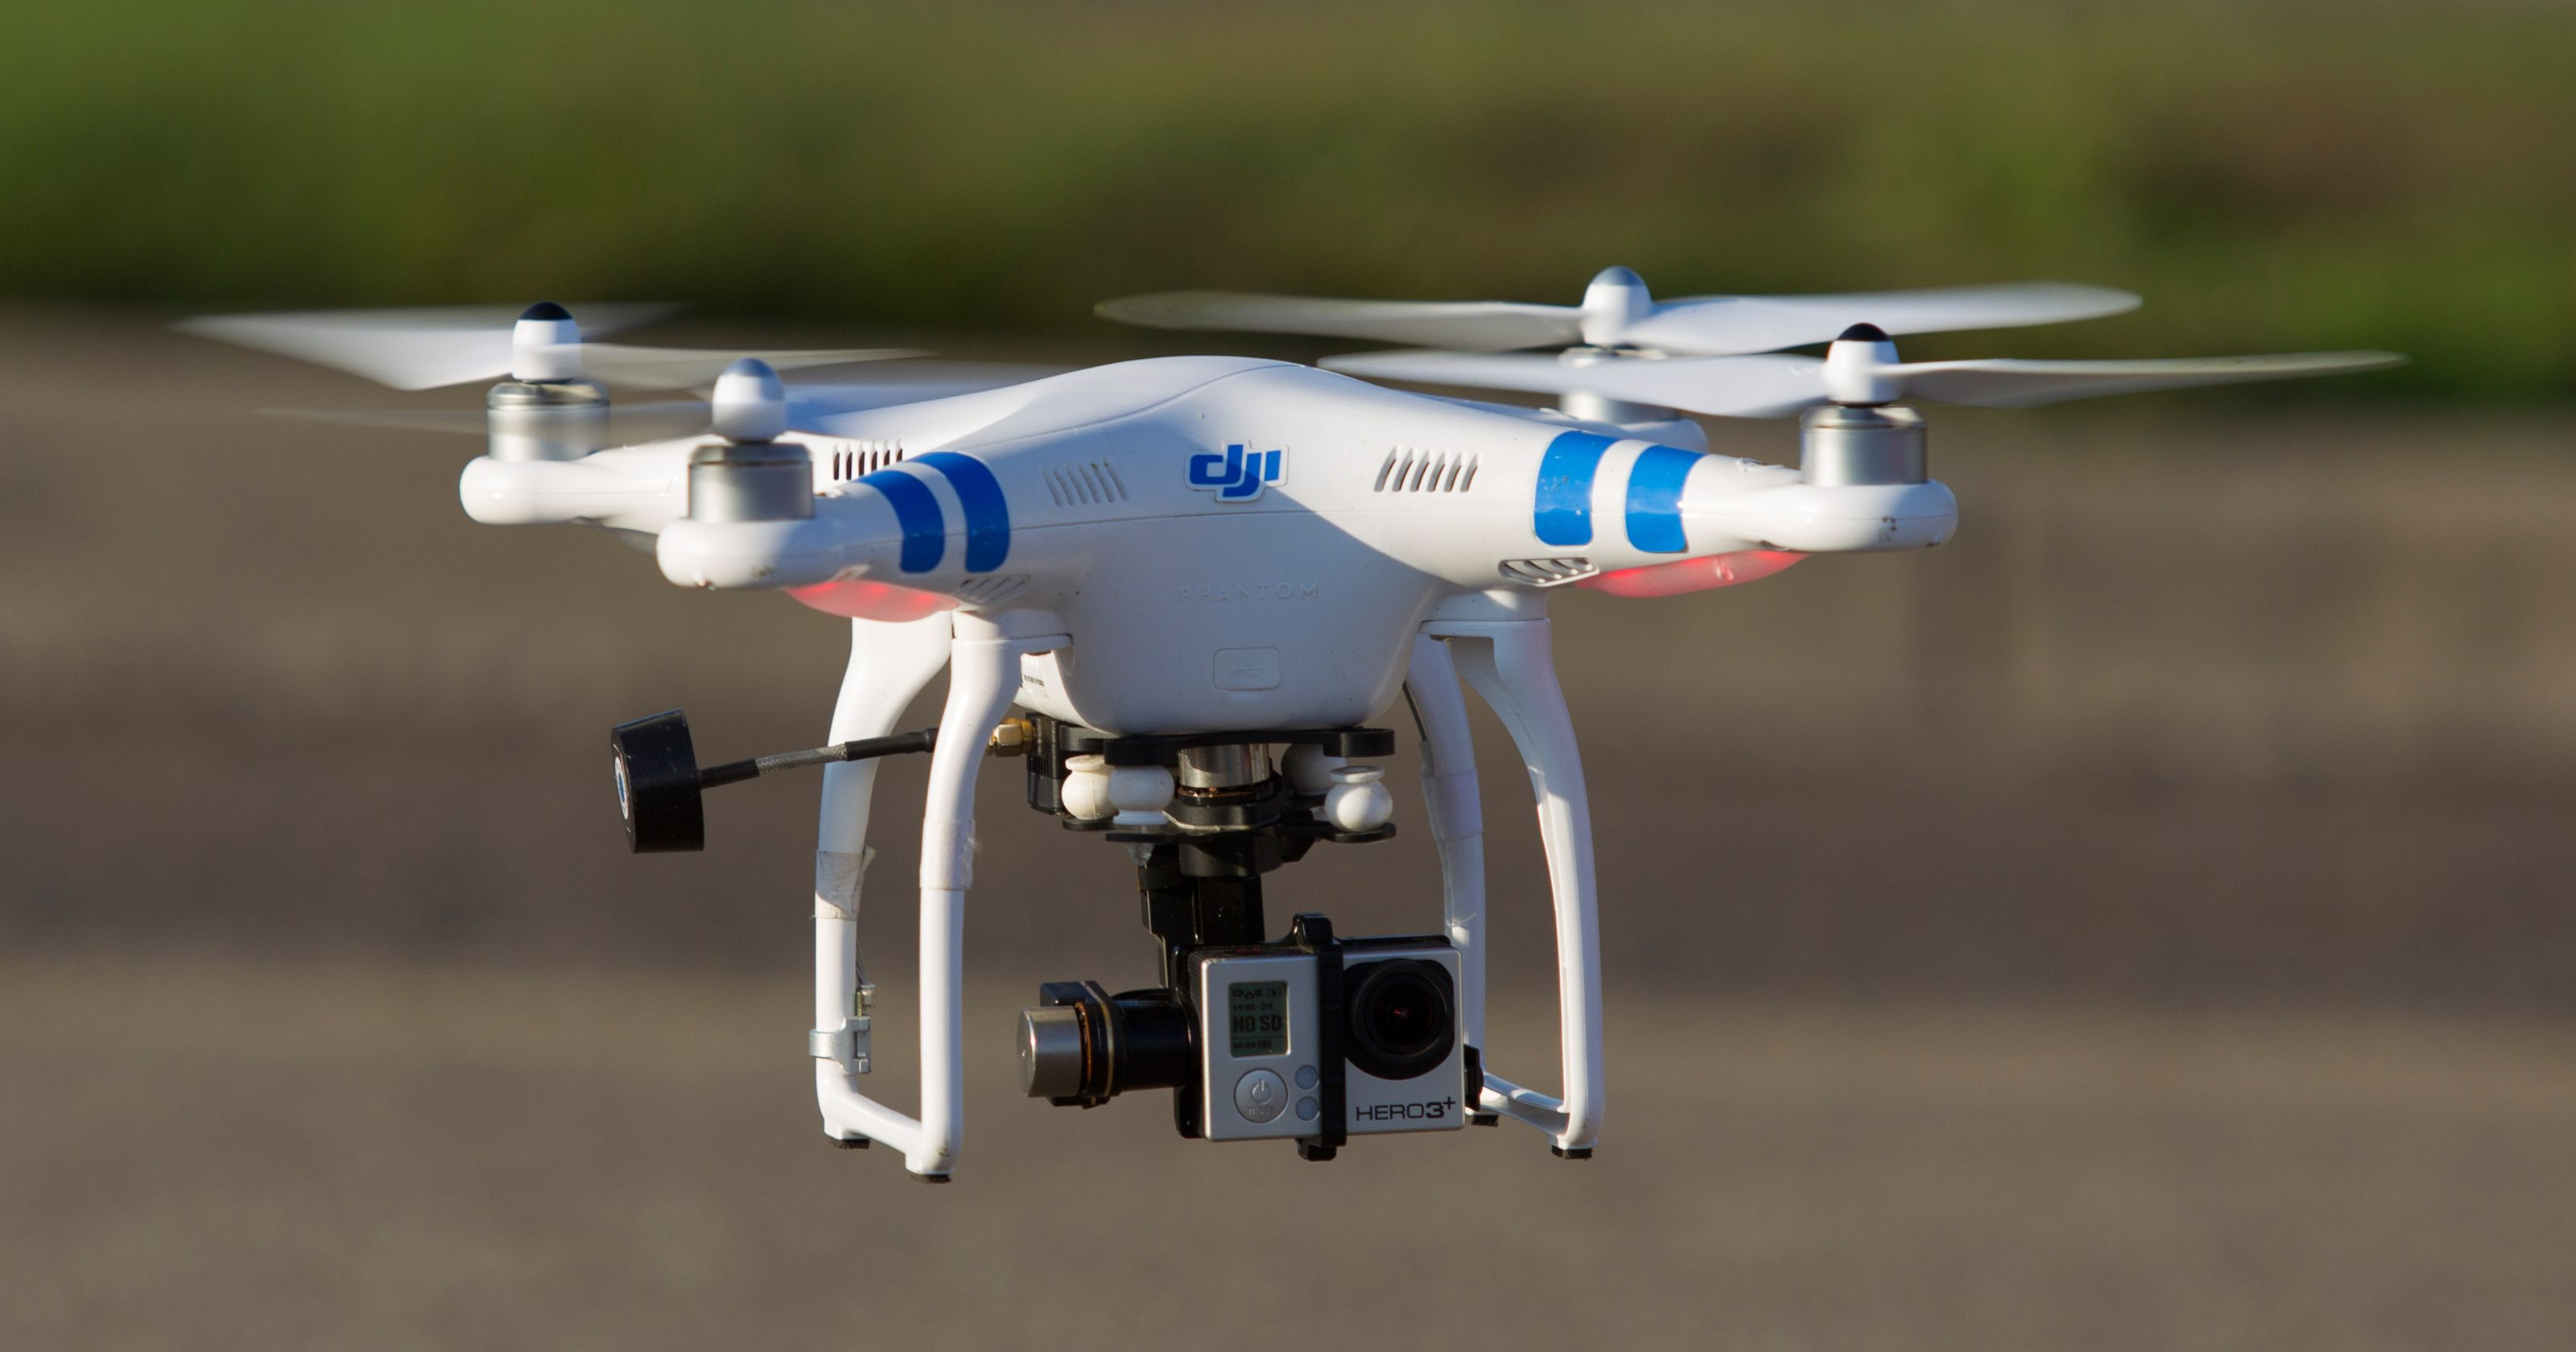drone: (157, 261, 2428, 1202)
